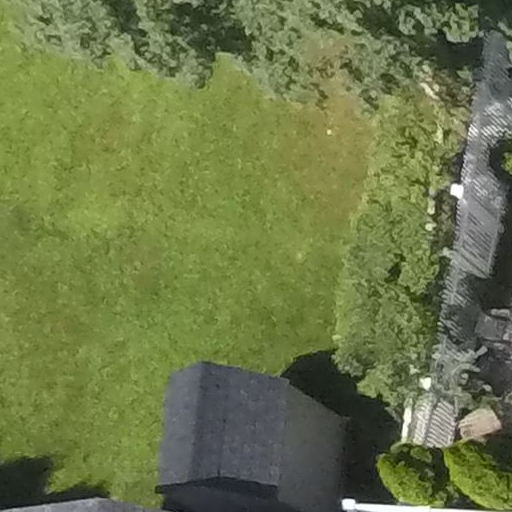fence: (387, 49, 512, 463)
